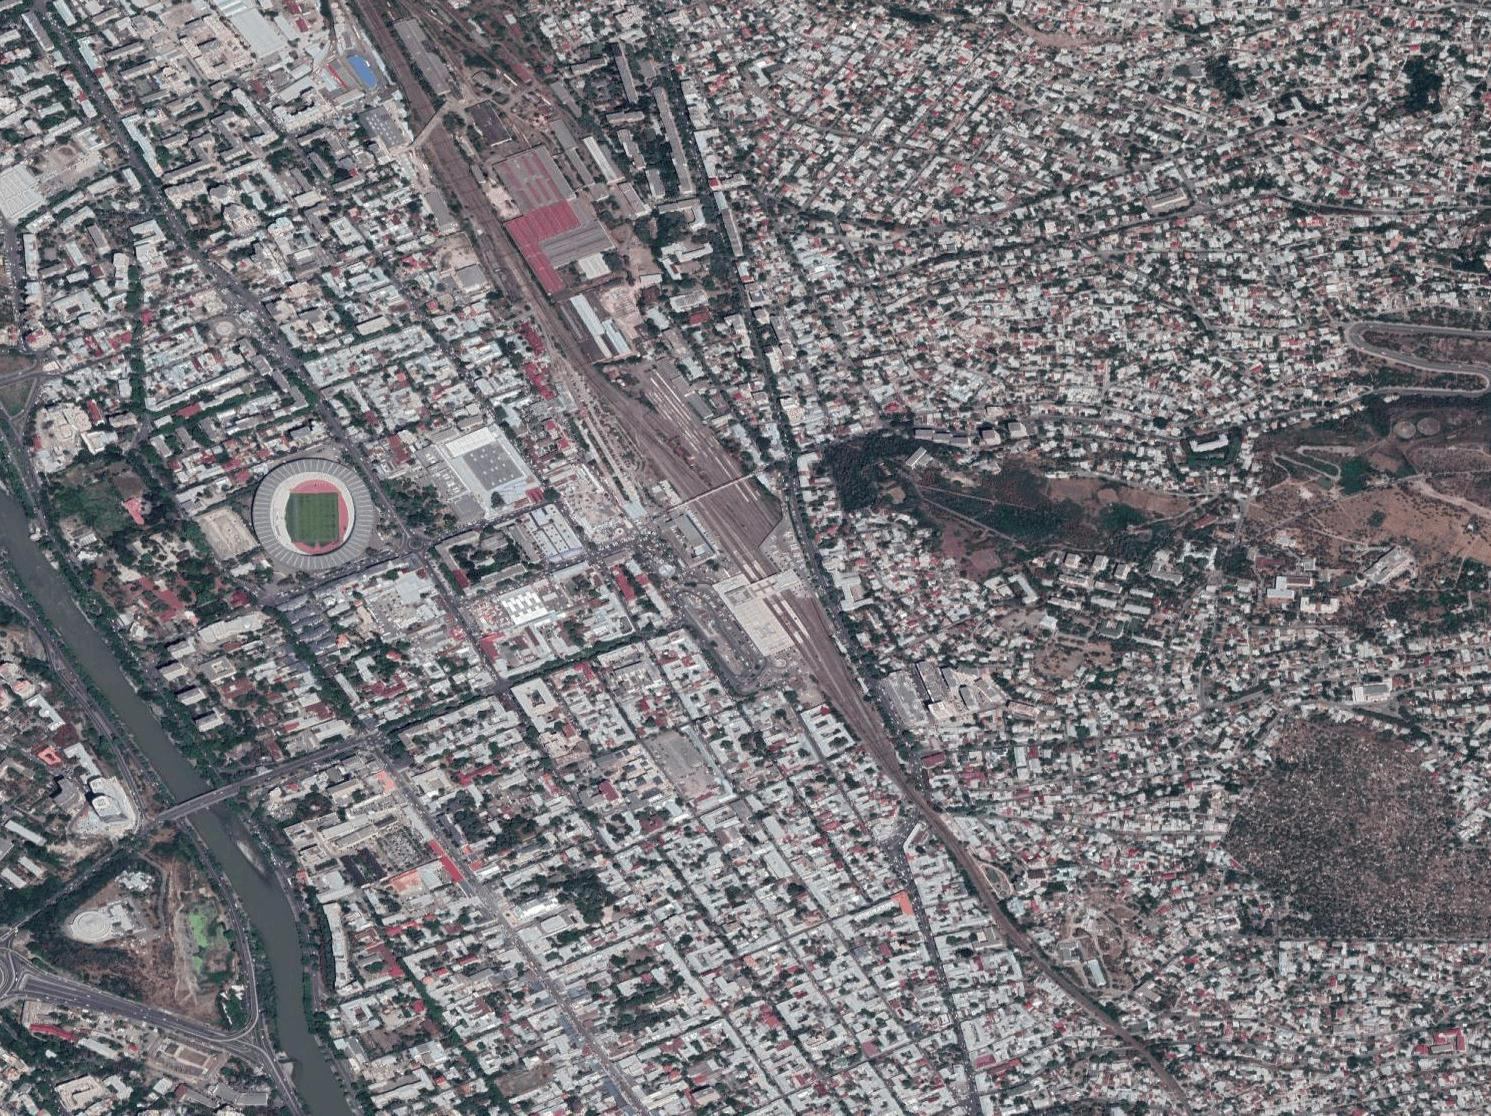bridge: (678, 471, 756, 513), (172, 782, 233, 815)
train_station: (692, 528, 845, 694)
